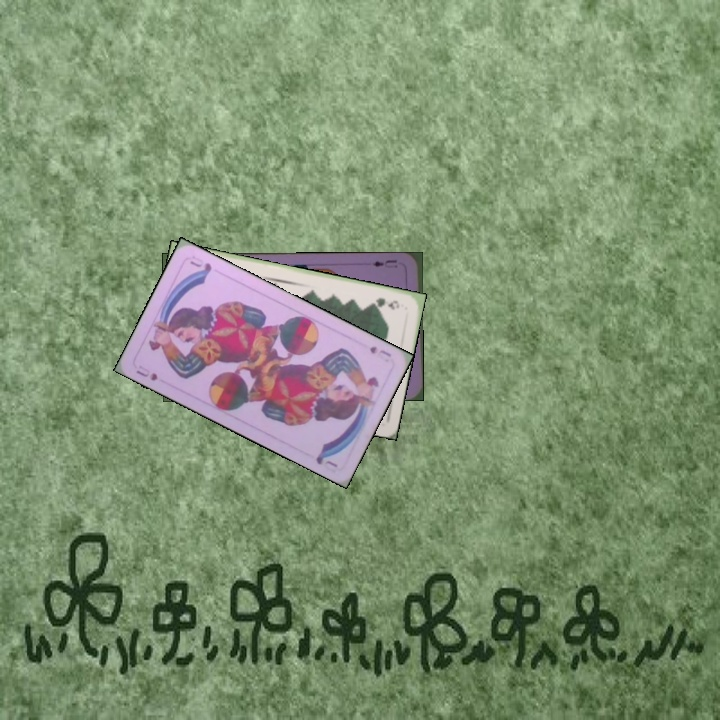EU: (369, 256, 400, 270)
G9: (367, 293, 402, 311)
SU: (365, 342, 394, 364), (132, 366, 160, 383)
